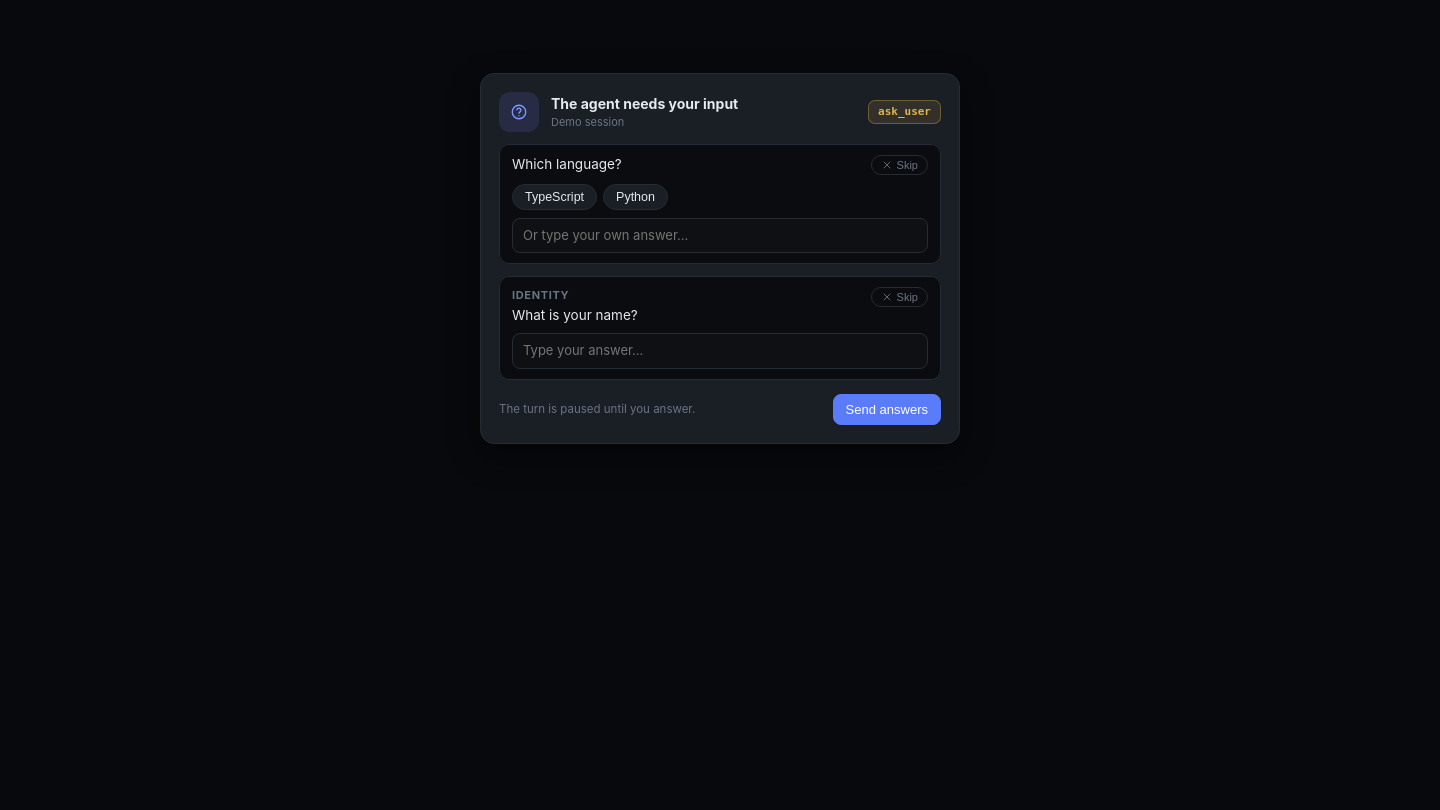
Test: AskDialog › lets the user skip a question and then un-skip it
The width and height of the screenshot is (1440, 810).
Click the button "Skip" in the row of "Which language?": point(899, 165) [871, 155, 928, 175]
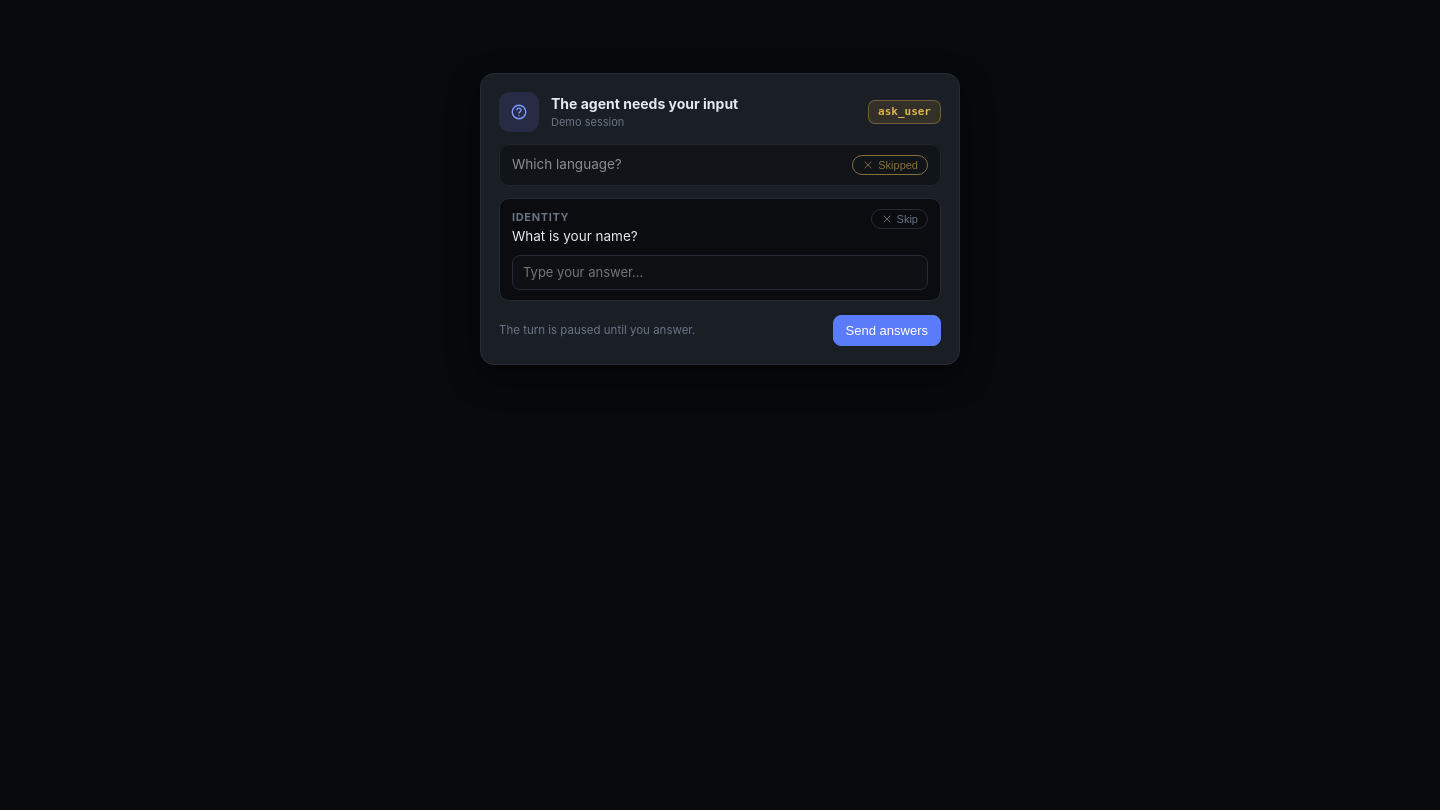
Now the radio button labelled "TypeScript" is gone
Now the button "Skipped" is shown
# The skip control must stay clickable so the user can un-skip.
Click the button "Skipped": point(890, 165) [852, 155, 928, 175]
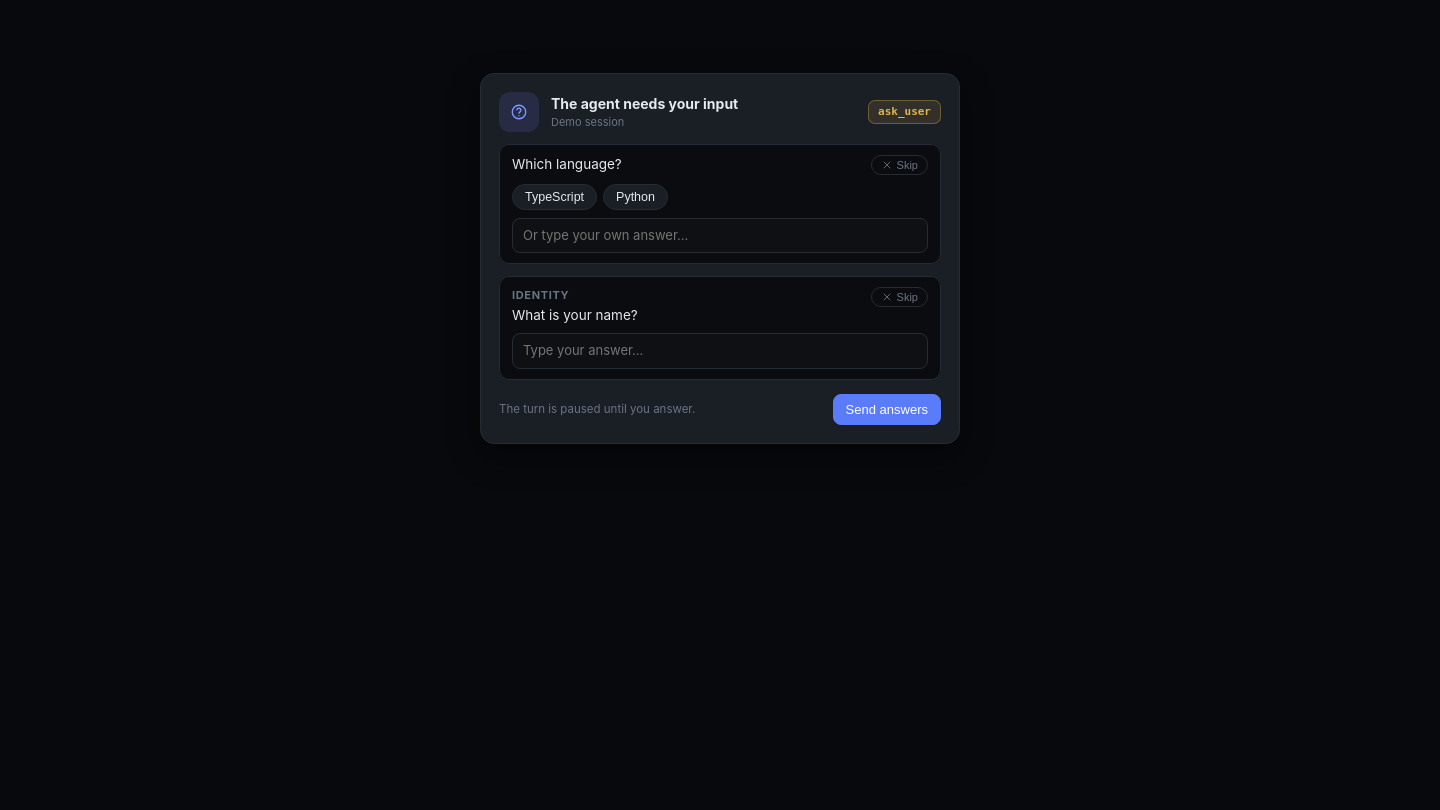
Now the radio button labelled "TypeScript" is shown, box [512, 184, 597, 210]
Now the button "Skipped" is gone
